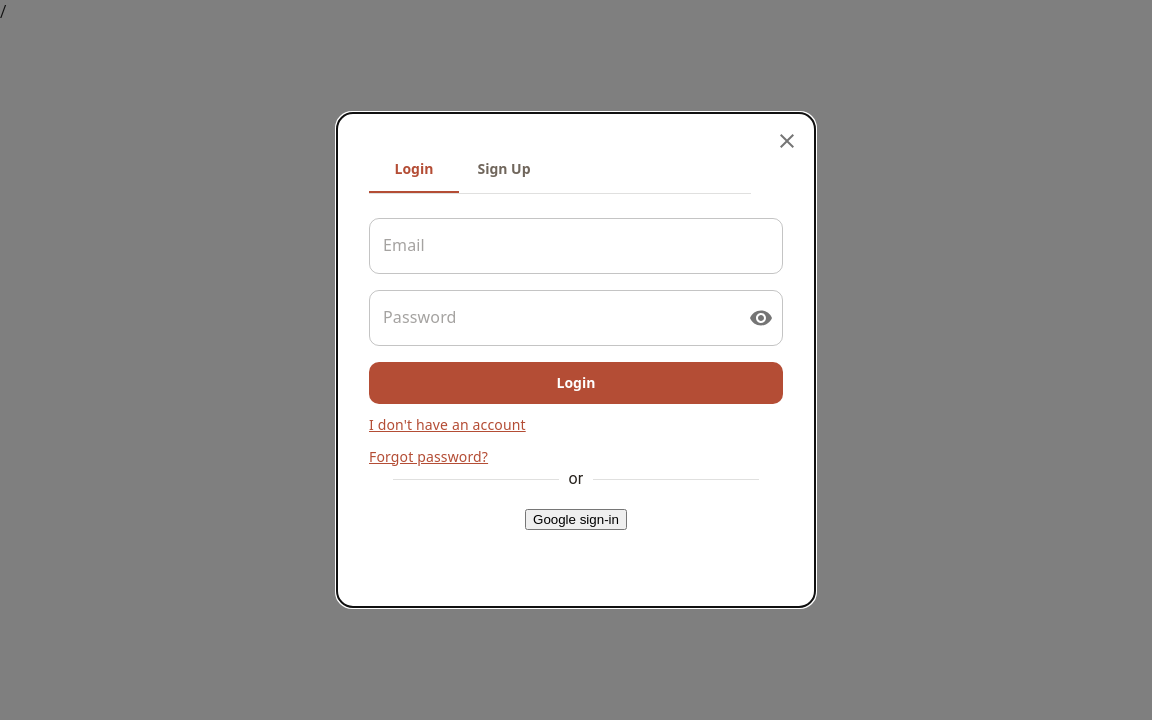
Test: cancelling Google linking clears the prompt and permits a new attempt
Click the button "Google sign-in" at coordinates (576, 520), box [525, 510, 627, 530]
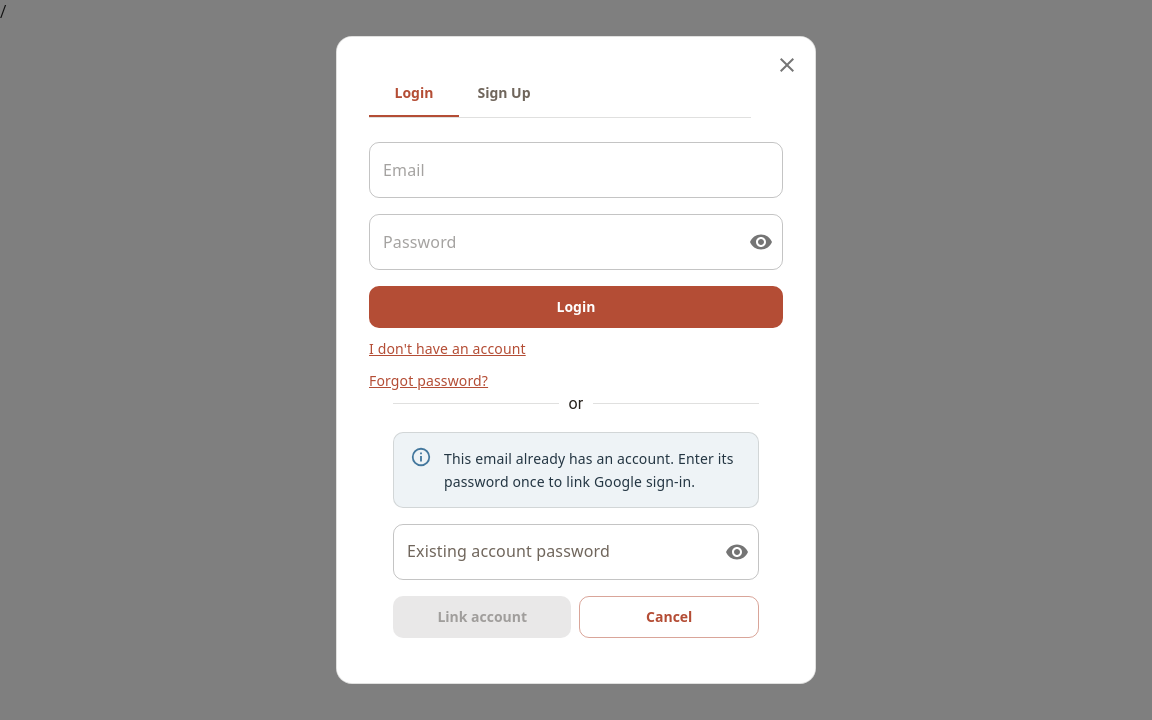
Now the password field labelled "Existing account password" is shown, box [393, 524, 709, 580]
Click the button "Cancel" at coordinates (669, 617), box [579, 596, 759, 638]
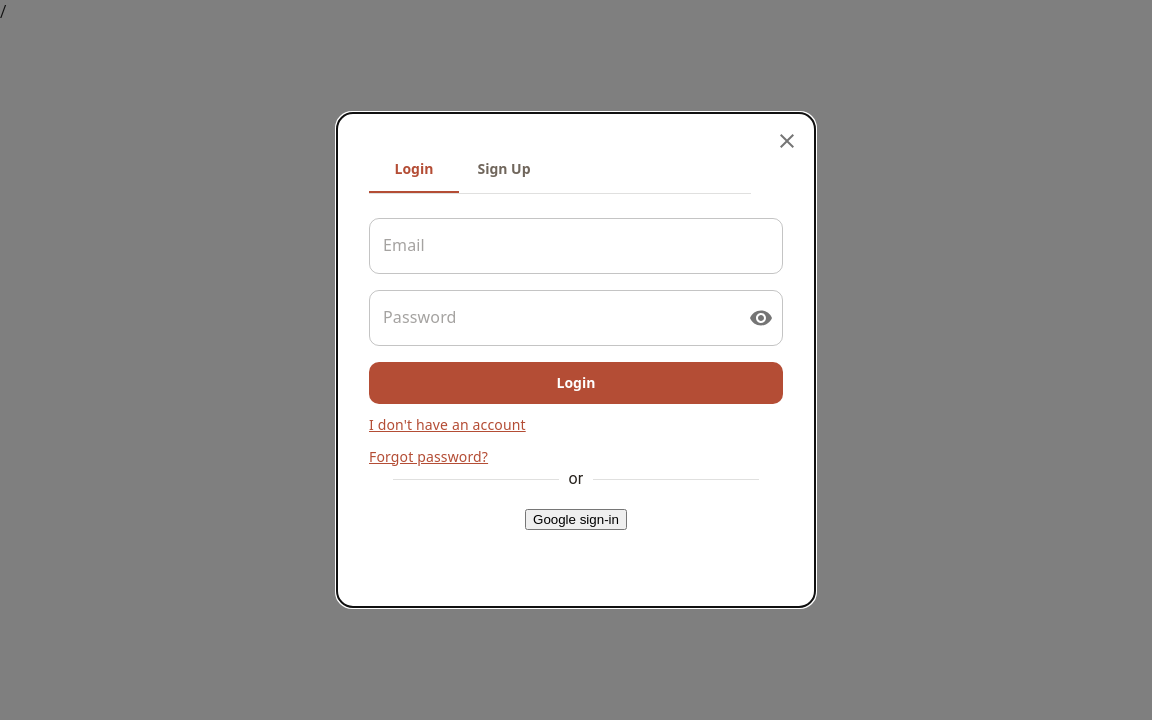
Expected: the button "Google sign-in" is shown, [525, 510, 627, 530]
Now the label labelled "Existing account password" is gone
